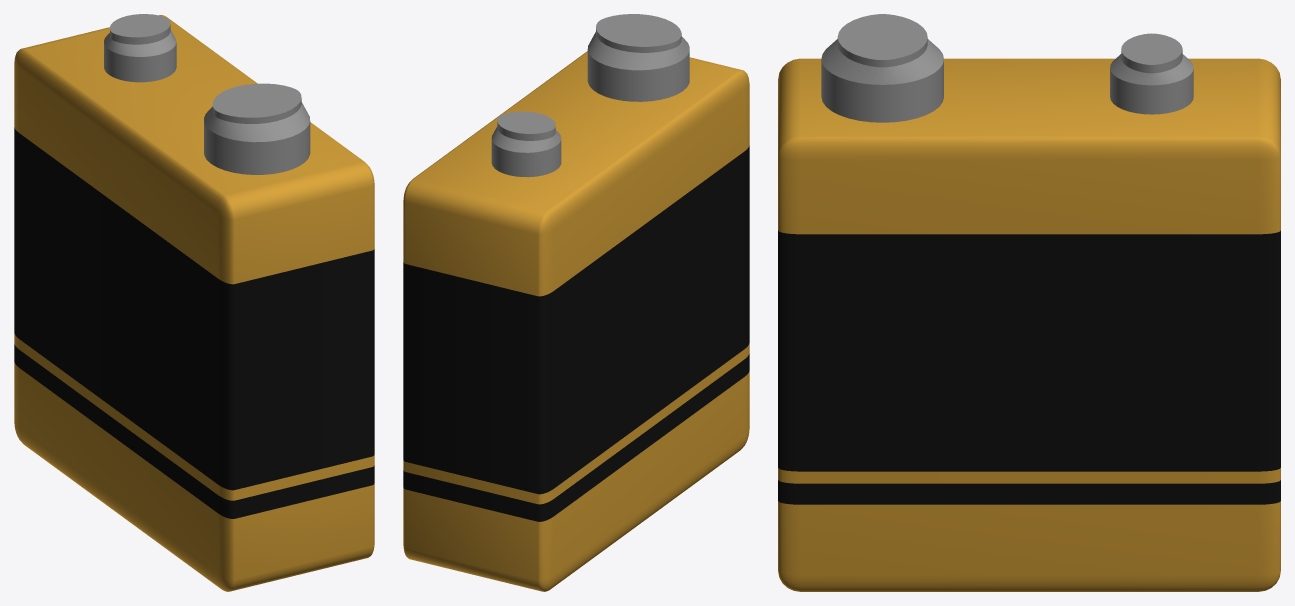
Rendered from battery2.fbx.
3 renders of one model, left to right at view 1: azimuth 30°, elevation 25°; view 2: azimuth 150°, elevation 25°; view 3: azimuth 270°, elevation 25°, orthographic. The views are drawn at different scales.
Parts seen in each view (by area): view 1: battery2; view 2: battery2; view 3: battery2.
Boxes of the visible parts, bbox=[...] form: battery2: bbox=[14, 14, 374, 591]; battery2: bbox=[403, 14, 749, 591]; battery2: bbox=[778, 14, 1280, 591].
Bounding box in the file's own units: 32.89 × 92.87 × 82.1.
